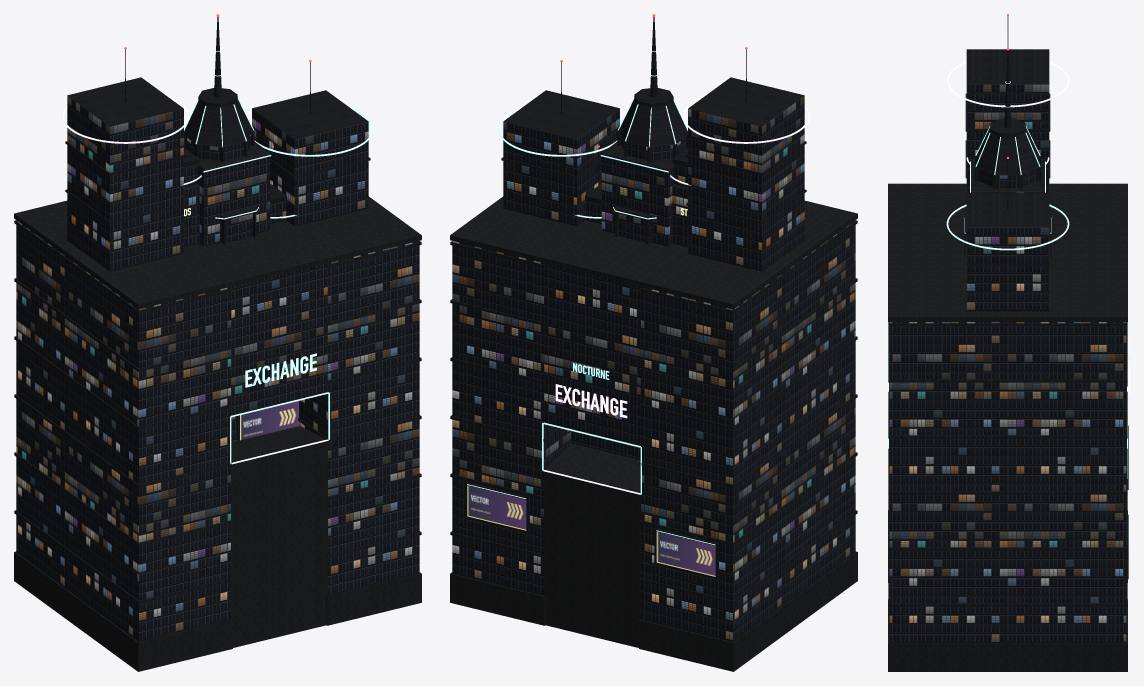
Rendered from nocturne-city-kit.glb.
3 renders of one model, left to right at view 1: azimuth 30°, elevation 25°; view 2: azimuth 150°, elevation 25°; view 3: azimuth 270°, elevation 25°, orthographic. The views are drawn at different scales.
Parts seen in each view (by area): view 1: exchange-gate / Nocturne glazing, exchange-gate / Nocturne concrete, exchange-gate / Nocturne metal, far-block-b / Nocturne glazing, spire-tower / Nocturne metal, exchange-gate / Neon cyan, twin-towers / Nocturne glazing, arcology-block / Holo screens, spire-tower / Nocturne glazing, exchange-gate / Neon violet; view 2: exchange-gate / Nocturne glazing, exchange-gate / Nocturne concrete, exchange-gate / Nocturne metal, far-block-b / Nocturne glazing, exchange-gate / Holo screens, spire-tower / Nocturne metal, twin-towers / Nocturne glazing, exchange-gate / Neon violet, spire-tower / Nocturne glazing, exchange-gate / Neon cyan, far-block-c / Nocturne glazing; view 3: exchange-gate / Nocturne glazing, exchange-gate / Nocturne concrete, exchange-gate / Nocturne metal, spire-tower / Nocturne metal, exchange-gate / Neon cyan, spire-tower / Nocturne glazing, far-block-b / Nocturne concrete, exchange-gate / Neon violet, spire-tower / Neon cyan.
Part boxes in pixels (box(x1,y1,x2,y2)): exchange-gate / Nocturne glazing: box(16, 95, 419, 641); exchange-gate / Nocturne concrete: box(14, 196, 421, 671); exchange-gate / Nocturne metal: box(65, 49, 370, 223); far-block-b / Nocturne glazing: box(197, 153, 270, 246); spire-tower / Nocturne metal: box(184, 17, 256, 244); exchange-gate / Neon cyan: box(230, 108, 373, 463); twin-towers / Nocturne glazing: box(184, 163, 286, 247); arcology-block / Holo screens: box(240, 401, 298, 440); spire-tower / Nocturne glazing: box(185, 134, 252, 242); exchange-gate / Neon violet: box(62, 95, 328, 464); exchange-gate / Nocturne glazing: box(452, 95, 855, 641); exchange-gate / Nocturne concrete: box(450, 196, 857, 671); exchange-gate / Nocturne metal: box(465, 49, 806, 579); far-block-b / Nocturne glazing: box(601, 153, 674, 246); exchange-gate / Holo screens: box(467, 485, 715, 576); spire-tower / Nocturne metal: box(615, 17, 687, 244); twin-towers / Nocturne glazing: box(585, 163, 687, 247); exchange-gate / Neon violet: box(543, 95, 809, 494); spire-tower / Nocturne glazing: box(619, 134, 686, 242); exchange-gate / Neon cyan: box(467, 108, 715, 545); far-block-c / Nocturne glazing: box(571, 431, 640, 460); exchange-gate / Nocturne glazing: box(889, 84, 1126, 643); exchange-gate / Nocturne concrete: box(888, 183, 1127, 671); exchange-gate / Nocturne metal: box(965, 16, 1128, 579); spire-tower / Nocturne metal: box(964, 50, 1051, 257); exchange-gate / Neon cyan: box(886, 204, 1129, 544); spire-tower / Nocturne glazing: box(979, 168, 1036, 188); far-block-b / Nocturne concrete: box(971, 160, 1044, 191); exchange-gate / Neon violet: box(946, 61, 1129, 401); spire-tower / Neon cyan: box(964, 81, 1051, 233).
Size of the model in its own units: 128 by 248 by 94.64.
12 materials, 6 textured.
